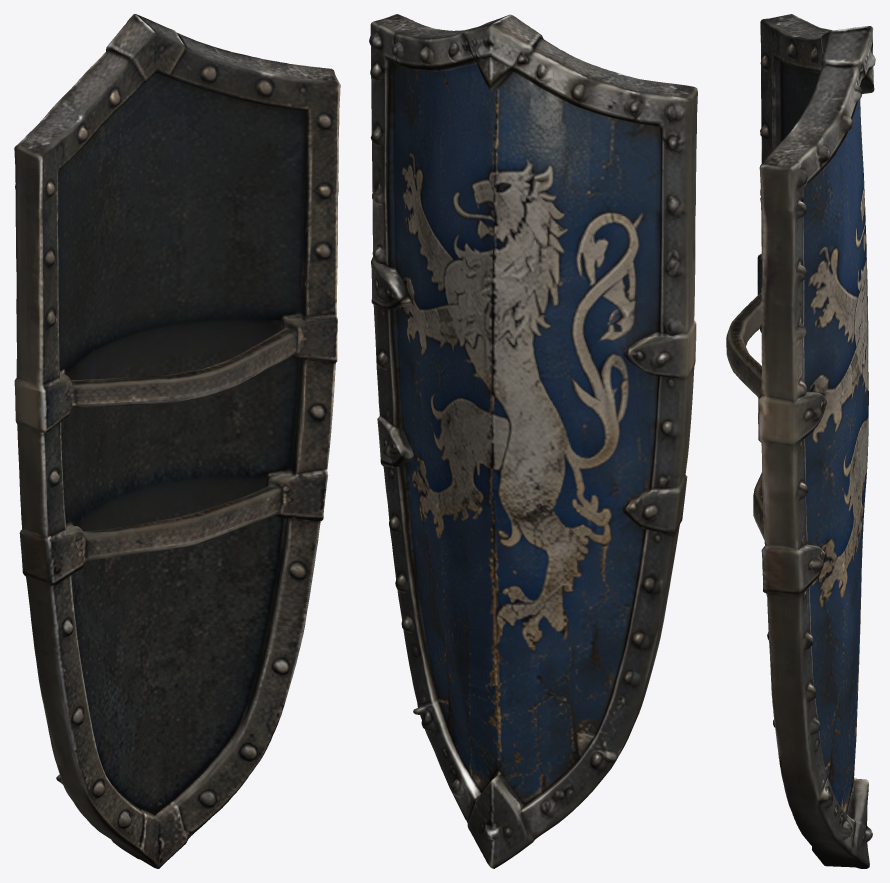
Rendered from tower_blue_lion.glb.
3 views of the same model, side by side, from view 1: azimuth 30°, elevation 25°; view 2: azimuth 150°, elevation 25°; view 3: azimuth 270°, elevation 25° (orthographic).
Visible parts, largest first — view 1: tower_blue_lion; view 2: tower_blue_lion; view 3: tower_blue_lion.
Part boxes in pixels (x1=…): tower_blue_lion: x1=14, y1=14, x2=340, y2=868; tower_blue_lion: x1=369, y1=14, x2=697, y2=868; tower_blue_lion: x1=726, y1=14, x2=875, y2=868.
Bounding box in the file's own units: 0.4454 × 1.12 × 0.1805.
Materials: 1 (1 with a texture image).
